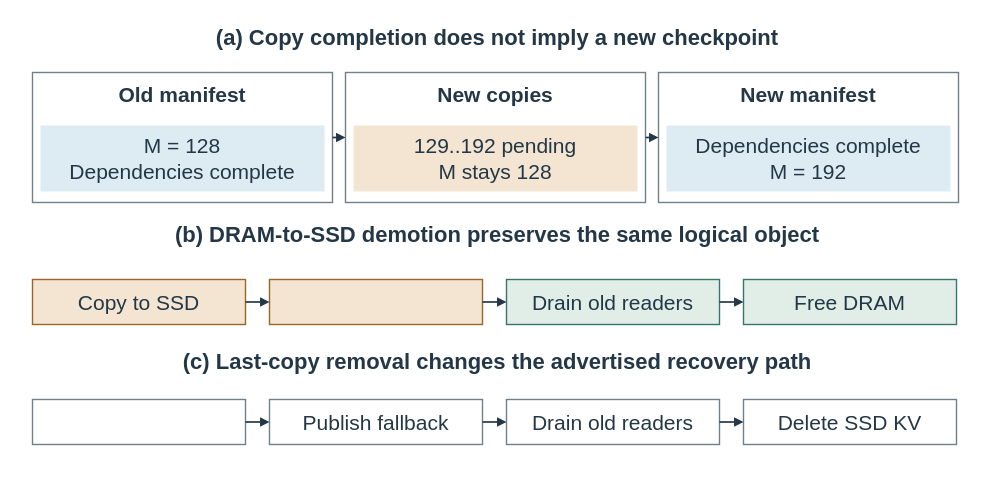
Some shapes in this 994 by 479 pixel diagram are drawn without their labels. The shapes that lost their labels are listed below. From the top down, each one's box as (x1, y1, x2, y2) in pixels, then its label:
(268, 278, 483, 325): Commit + redirect
(31, 398, 246, 445): Validate fallback
